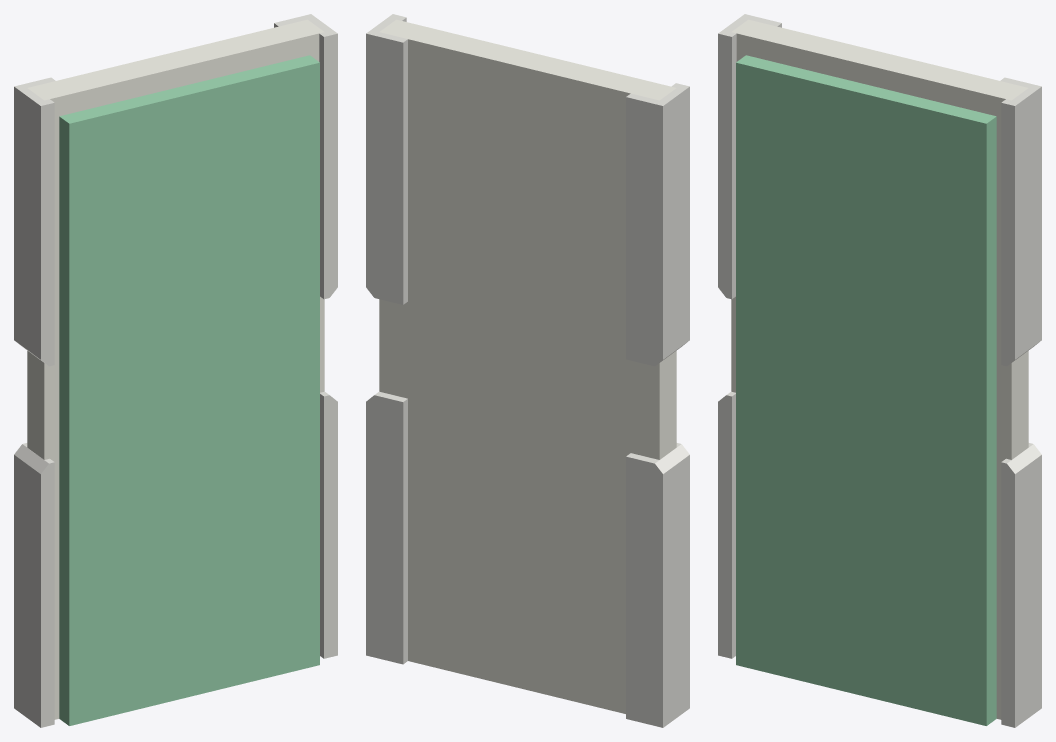
The model's file is R_Shunt_Ohmite_LVK25.glb.
3 views of the same model, side by side, from view 1: azimuth 30°, elevation 25°; view 2: azimuth 150°, elevation 25°; view 3: azimuth 330°, elevation 25° (orthographic).
Parts seen in each view (by area): view 1: Shape_IndexedFaceSet.028, Shape_IndexedFaceSet.011, Shape_IndexedFaceSet.042, Shape_IndexedFaceSet.030, Shape_IndexedFaceSet.024, Shape_IndexedFaceSet.018, Shape_IndexedFaceSet.031, Shape_IndexedFaceSet.006, Shape_IndexedFaceSet.035, Shape_IndexedFaceSet.040, Shape_IndexedFaceSet.023, Shape_IndexedFaceSet.021 (+2 smaller); view 2: Shape_IndexedFaceSet.009, Shape_IndexedFaceSet, Shape_IndexedFaceSet.033, Shape_IndexedFaceSet.029, Shape_IndexedFaceSet.038, Shape_IndexedFaceSet.042, Shape_IndexedFaceSet.030, Shape_IndexedFaceSet.018, Shape_IndexedFaceSet.021, Shape_IndexedFaceSet.017, Shape_IndexedFaceSet.005; view 3: Shape_IndexedFaceSet.028, Shape_IndexedFaceSet.011, Shape_IndexedFaceSet.041, Shape_IndexedFaceSet.001, Shape_IndexedFaceSet.022, Shape_IndexedFaceSet.018, Shape_IndexedFaceSet.006, Shape_IndexedFaceSet.031, Shape_IndexedFaceSet.035, Shape_IndexedFaceSet.040, Shape_IndexedFaceSet.023, Shape_IndexedFaceSet.010 (+2 smaller).
Part boxes in pixels (box(x1,y1,x2,y2)): Shape_IndexedFaceSet.028: box(69, 62, 319, 725); Shape_IndexedFaceSet.011: box(44, 33, 324, 719); Shape_IndexedFaceSet.042: box(14, 87, 40, 359); Shape_IndexedFaceSet.030: box(14, 455, 40, 727); Shape_IndexedFaceSet.024: box(59, 116, 69, 725); Shape_IndexedFaceSet.018: box(27, 19, 324, 100); Shape_IndexedFaceSet.031: box(41, 462, 54, 727); Shape_IndexedFaceSet.006: box(324, 395, 337, 658); Shape_IndexedFaceSet.035: box(324, 33, 337, 299); Shape_IndexedFaceSet.040: box(41, 103, 54, 366); Shape_IndexedFaceSet.023: box(59, 55, 319, 123); Shape_IndexedFaceSet.021: box(27, 351, 44, 459); Shape_IndexedFaceSet.009: box(379, 39, 659, 713); Shape_IndexedFaceSet: box(366, 395, 403, 664); Shape_IndexedFaceSet.033: box(366, 33, 403, 304); Shape_IndexedFaceSet.029: box(626, 456, 662, 727); Shape_IndexedFaceSet.038: box(626, 97, 662, 366); Shape_IndexedFaceSet.042: box(663, 87, 689, 359); Shape_IndexedFaceSet.030: box(663, 455, 689, 727); Shape_IndexedFaceSet.018: box(379, 19, 676, 100); Shape_IndexedFaceSet.021: box(659, 351, 676, 459); Shape_IndexedFaceSet.017: box(403, 39, 407, 304); Shape_IndexedFaceSet.005: box(403, 399, 407, 663); Shape_IndexedFaceSet.028: box(736, 62, 986, 725); Shape_IndexedFaceSet.011: box(731, 33, 1011, 719); Shape_IndexedFaceSet.041: box(1015, 87, 1041, 359); Shape_IndexedFaceSet.001: box(1015, 455, 1041, 727); Shape_IndexedFaceSet.022: box(986, 116, 996, 725); Shape_IndexedFaceSet.018: box(731, 19, 1028, 100); Shape_IndexedFaceSet.006: box(1001, 462, 1014, 727); Shape_IndexedFaceSet.031: box(718, 395, 731, 658); Shape_IndexedFaceSet.035: box(1001, 103, 1014, 366); Shape_IndexedFaceSet.040: box(718, 33, 731, 299); Shape_IndexedFaceSet.023: box(736, 55, 996, 123); Shape_IndexedFaceSet.010: box(1011, 351, 1028, 459).
Size of the model in its own units: 1.26 by 2.52 by 0.2362.
